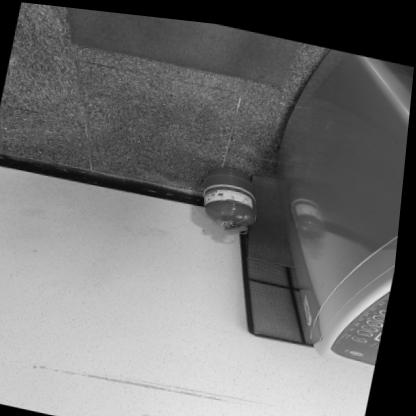FE: (200, 157, 262, 229)
